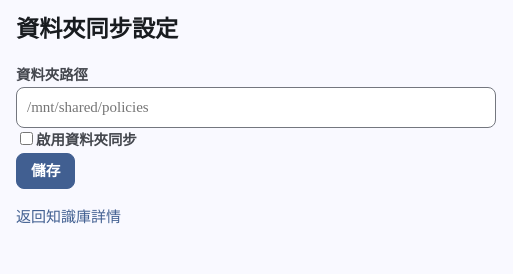
KnowledgeFolderSyncEditor (E05-S016) › clears the 已儲存 confirmation as soon as the path is edited again
Type "/a" into the field labelled "資料夾路徑" at (256, 108), box [16,88,496,128]
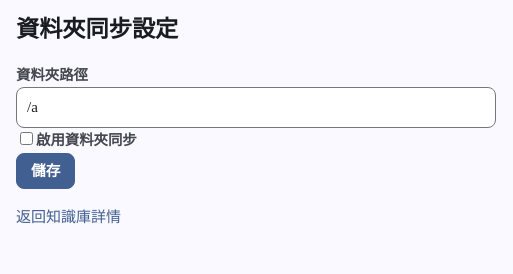
Click the button "儲存" at (46, 171), box [16,153,76,189]
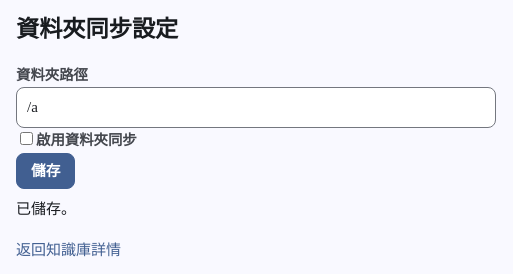
Check: the message "已儲存。" is shown, box [16,201,76,217]
Replace the text in the field labelled "資料夾路徑" with "/a/b" at (256, 108), box [16,88,496,128]
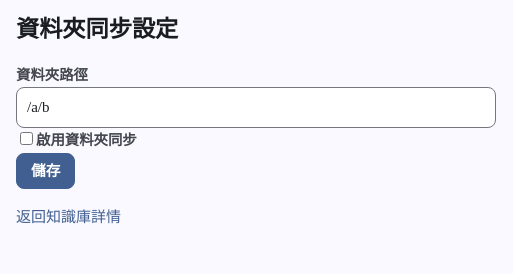
Check: the message "已儲存。" is gone
